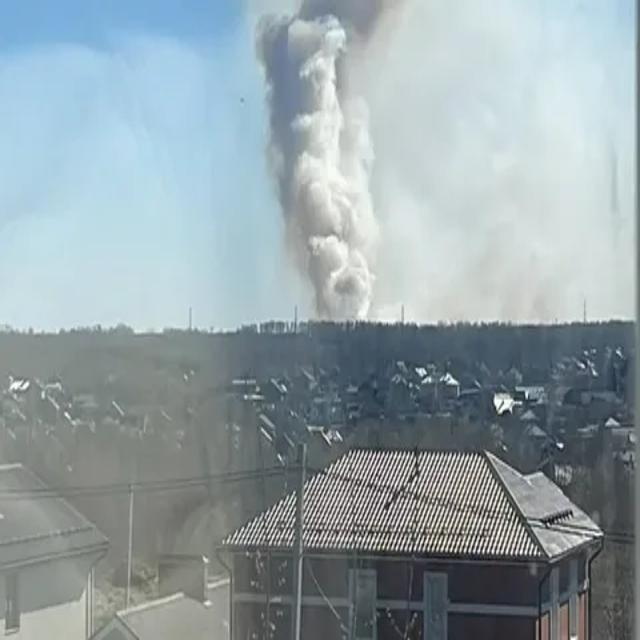smoke: (255, 1, 408, 304)
